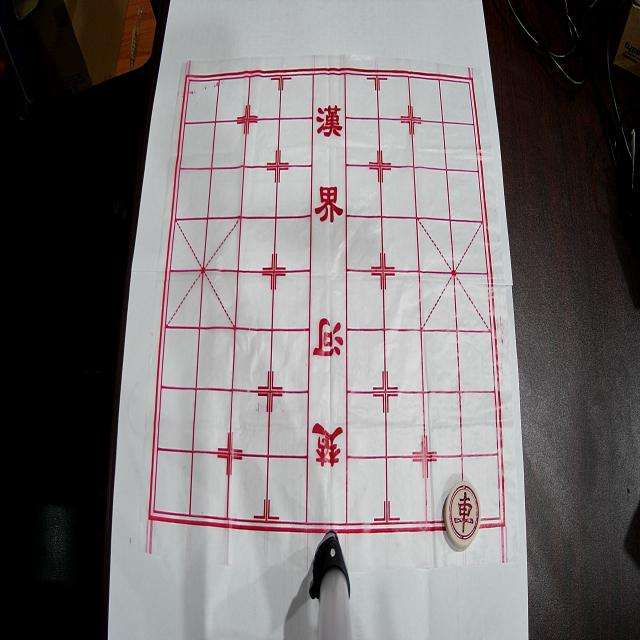red-chariot: (444, 480, 481, 548)
